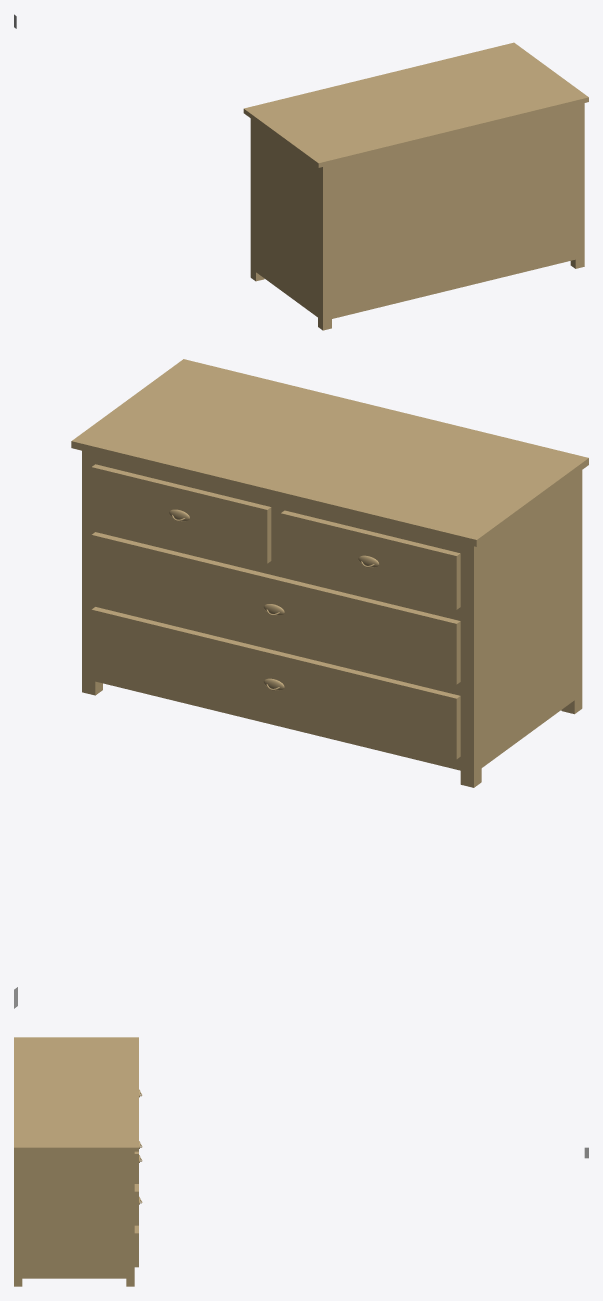
Rendered from Furniture - Hairdressing table.fbx.
3 views of the same model, one above another, from view 1: azimuth 30°, elevation 25°; view 2: azimuth 150°, elevation 25°; view 3: azimuth 270°, elevation 25° (orthographic). The views are drawn at different scales.
Parts seen in each view (by area): view 1: Hairdressing table body; view 2: Hairdressing table body, Hairdressing table drawer 4 - Down, Hairdressing table drawer 3 - Up, Hairdressing table drawer 2- L, Hairdressing table drawer 1- R; view 3: Hairdressing table body.
Part boxes in pixels (x1,y1,x2,y2): Hairdressing table body: (243,42,588,330); Hairdressing table body: (71,359,588,787); Hairdressing table drawer 4 - Down: (91,607,460,759); Hairdressing table drawer 3 - Up: (91,532,460,684); Hairdressing table drawer 2- L: (91,464,271,563); Hairdressing table drawer 1- R: (281,510,460,609); Hairdressing table body: (14,1037,138,1286).
Bounding box in the file's own units: 151 × 90 × 333.
